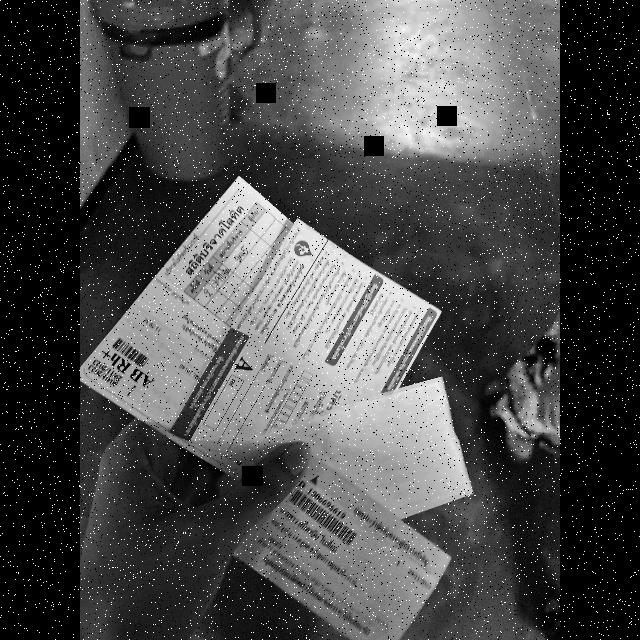scrap_paper: (80, 177, 324, 481), (174, 210, 446, 478), (222, 450, 448, 640), (246, 370, 477, 518)
